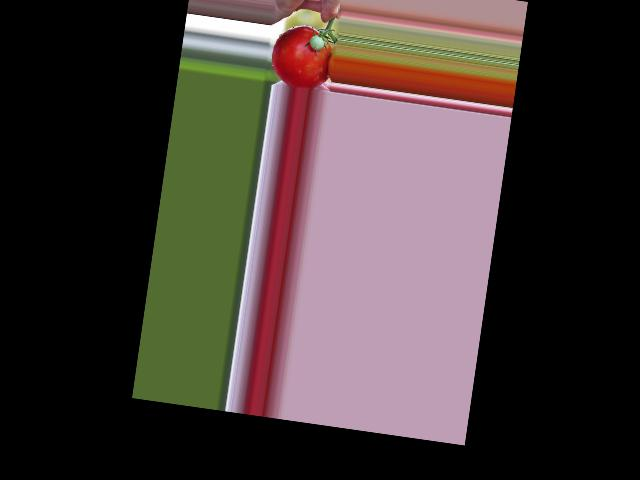tomato: (268, 21, 335, 92)
